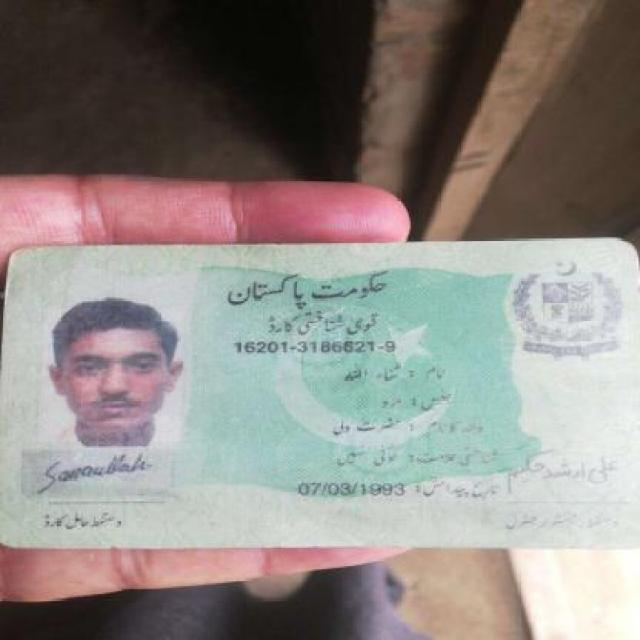Front: (4, 241, 630, 557)
